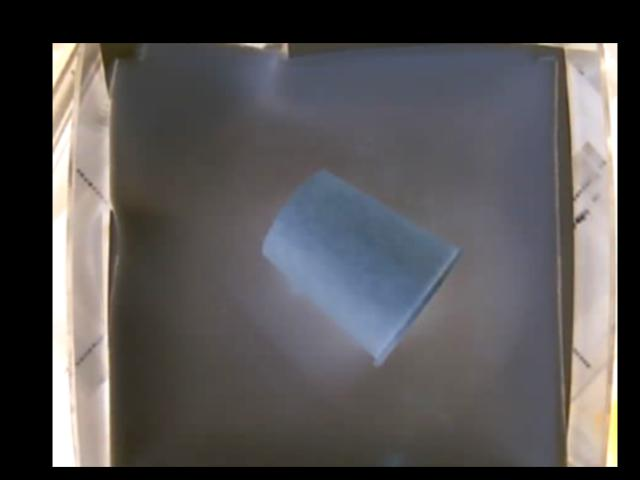Cup: (259, 169, 462, 367)
